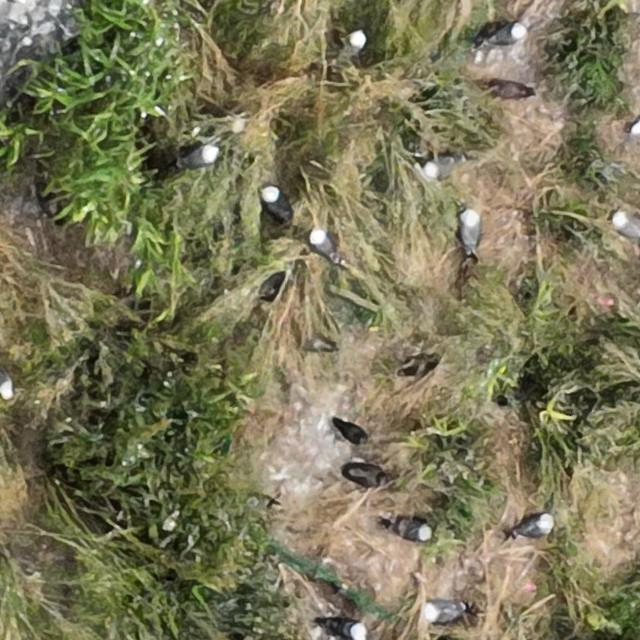umineko: (264, 188, 290, 220), (462, 210, 482, 251), (310, 230, 336, 260), (518, 514, 551, 536), (426, 603, 461, 623), (396, 520, 431, 540), (183, 146, 216, 167), (424, 157, 460, 176), (613, 215, 639, 240), (487, 26, 523, 44), (347, 32, 365, 54), (0, 364, 12, 397), (347, 622, 365, 640), (629, 116, 639, 137)
